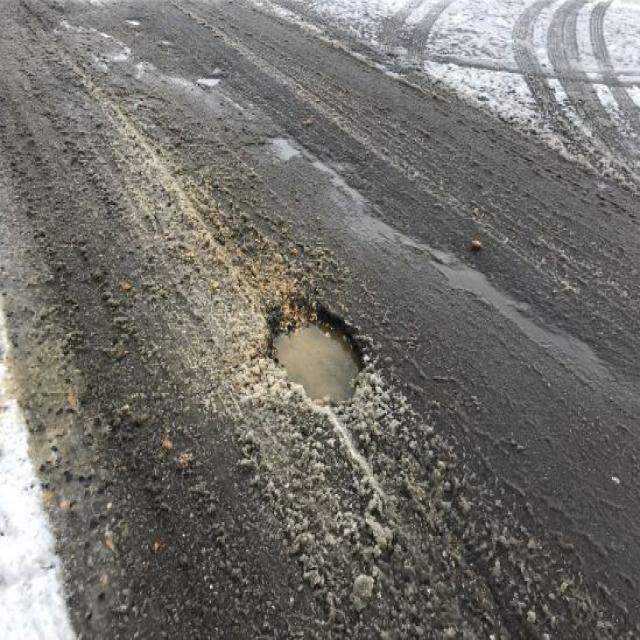Pothole: (256, 286, 372, 404)
